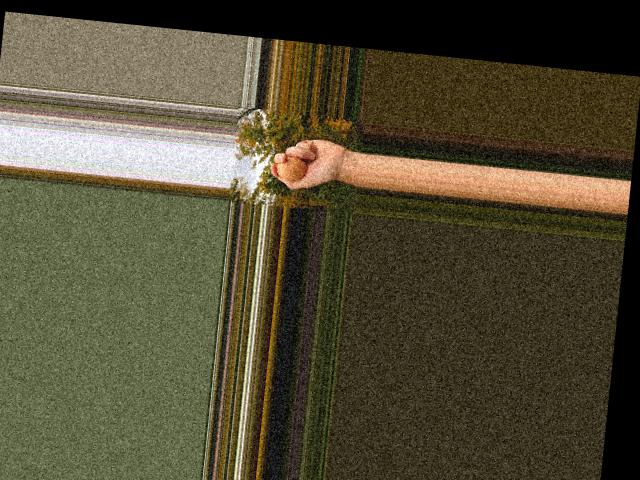egg: (275, 154, 307, 181)
